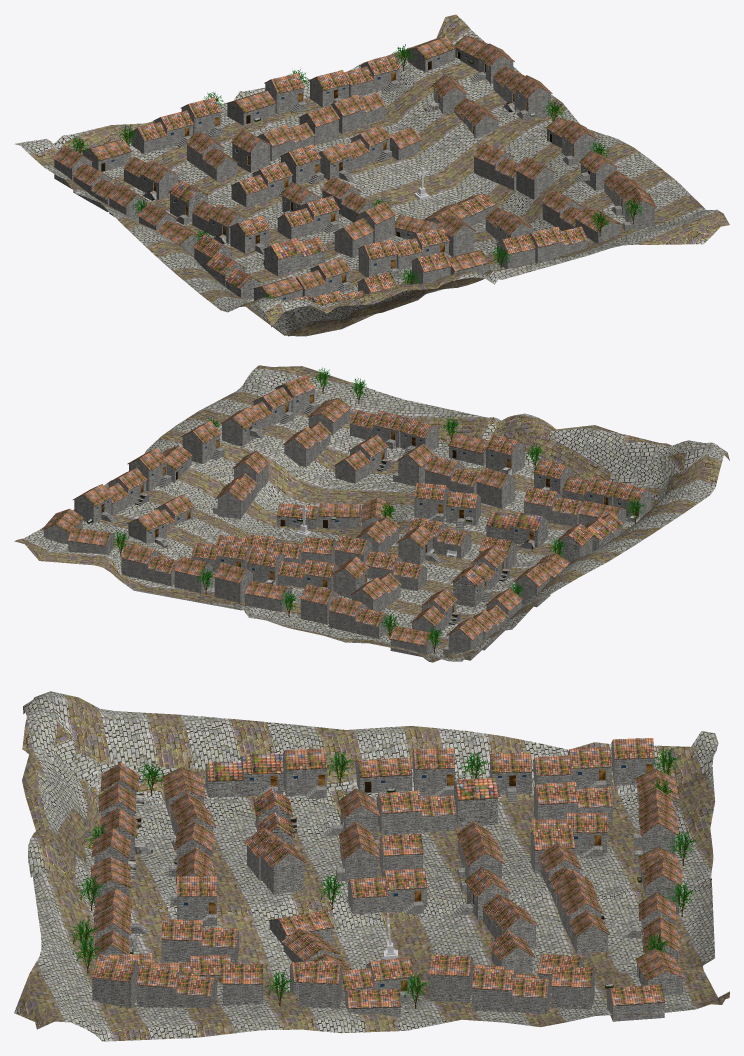
Rendered from room4.fbx.
The picture shows the model from 3 angles, top to bottom: view 1: azimuth 30°, elevation 25°; view 2: azimuth 150°, elevation 25°; view 3: azimuth 270°, elevation 25°; orthographic projection. The views are drawn at different scales.
Parts seen in each view (by area): view 1: chao, Cube.132, Cube.195, Cube.144, Cube.148, Cube.197, Cube.193, Cube.209, Cube.219, Cube.152, Cube.175, Cube.115 (+51 smaller); view 2: chao, Cube.195, Cube.132, Cube.193, Cube.115, Cube.150, Cube.148, Cube.214, Cube.125, Cube.152, Cube.156, Cube.175 (+53 smaller); view 3: chao, Cube.142, Cube.191, Cube.171, Cube.161, Cube.101, Cube.150, Cube.110, Cube.219, Cube.209, Cube.136, Cube.159 (+51 smaller).
Part boxes in pixels (x1,y1,x2,y2): chao: (14, 14, 729, 336); Cube.132: (263, 237, 325, 276); Cube.195: (131, 110, 193, 153); Cube.144: (277, 195, 339, 239); Cube.148: (231, 161, 292, 207); Cube.197: (185, 131, 238, 180); Cube.193: (344, 55, 400, 97); Cube.209: (330, 92, 386, 133); Cube.219: (123, 156, 179, 199); Cube.152: (530, 226, 587, 262); Cube.175: (473, 142, 519, 190); Cube.115: (296, 257, 350, 297); chao: (14, 365, 729, 662); Cube.195: (328, 596, 390, 638); Cube.132: (486, 511, 548, 547); Cube.193: (120, 543, 178, 585); Cube.115: (523, 487, 582, 526); Cube.150: (334, 434, 388, 483); Cube.148: (365, 550, 427, 591); Cube.214: (277, 559, 339, 589); Cube.125: (424, 455, 479, 493); Cube.152: (349, 410, 406, 447); Cube.156: (283, 422, 331, 467); Cube.175: (216, 473, 257, 518); chao: (14, 691, 729, 1041); Cube.142: (376, 790, 456, 835); Cube.191: (471, 968, 550, 1013); Cube.171: (347, 868, 427, 914); Cube.161: (136, 964, 217, 1008); Cube.101: (205, 753, 283, 797); Cube.150: (161, 919, 238, 963); Cube.110: (533, 747, 611, 788); Cube.219: (533, 782, 612, 822); Cube.209: (560, 886, 609, 953); Cube.136: (258, 836, 306, 894); Cube.159: (91, 957, 139, 1007).
Bounding box in the file's own units: 164 × 25.5 × 160.
Materials: 21 (6 with a texture image).
